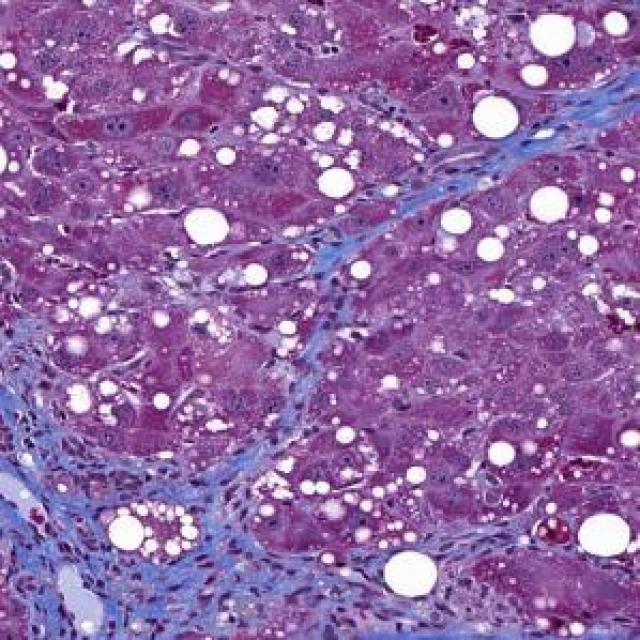fibrosis: (13, 418, 246, 598), (513, 68, 640, 156), (285, 542, 398, 625)
